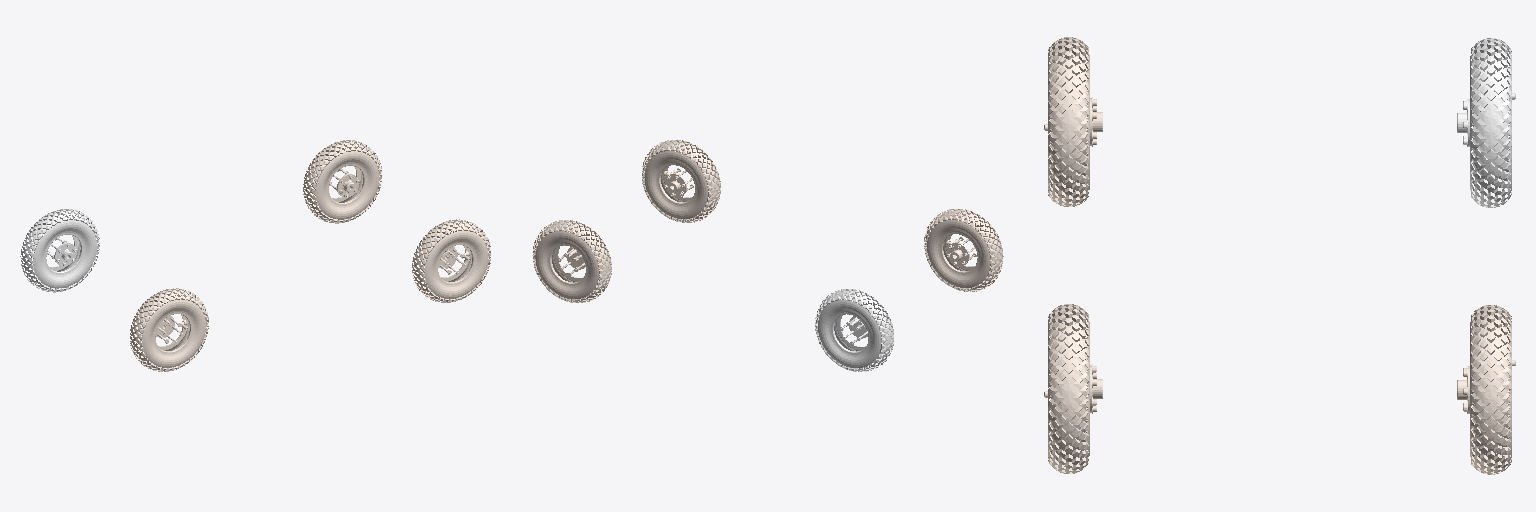
URDF robot description (ASIMOV_FINAL_v3):
<?xml version="1.0" encoding="utf-8"?>
<!-- This URDF was automatically created by SolidWorks to URDF Exporter! Originally created by [author] ([email redacted]) 
     Commit Version: 1.6.0-4-g7f85cfe  Build Version: 1.6.7995.38578
     For more information, please see http://wiki.ros.org/sw_urdf_exporter -->
<robot
  name="ASIMOV_FINAL_v3">
  <link
    name="base_link">
    <inertial>
      <origin
        xyz="-0.53586 -0.21063 0.13045"
        rpy="0 0 0" />
      <mass
        value="117.07" />
      <inertia
        ixx="1.3267"
        ixy="6.2294E-05"
        ixz="0.0025483"
        iyy="0.80971"
        iyz="-3.8013E-05"
        izz="1.2349" />
    </inertial>
    <visual>
      <origin
        xyz="0 0 0"
        rpy="0 0 0" />
      <geometry>
        <mesh
          filename="package://ASIMOV_FINAL_v3/meshes/base_link.STL" />
      </geometry>
      <material
        name="">
        <color
          rgba="0.86667 0.9098 1 1" />
      </material>
    </visual>
    <collision>
      <origin
        xyz="0 0 0"
        rpy="0 0 0" />
      <geometry>
        <mesh
          filename="package://ASIMOV_FINAL_v3/meshes/base_link.STL" />
      </geometry>
    </collision>
  </link>
  <link
    name="FL_wheel">
    <inertial>
      <origin
        xyz="-3.2274E-05 -0.024089 9.7242E-05"
        rpy="0 0 0" />
      <mass
        value="0.47815" />
      <inertia
        ixx="0.0011605"
        ixy="-1.2884E-08"
        ixz="-1.8991E-07"
        iyy="0.0021177"
        iyz="3.8596E-08"
        izz="0.001161" />
    </inertial>
    <visual>
      <origin
        xyz="0 0 0"
        rpy="0 0 0" />
      <geometry>
        <mesh
          filename="package://ASIMOV_FINAL_v3/meshes/FL_wheel.STL" />
      </geometry>
      <material
        name="">
        <color
          rgba="1 0.94902 0.9098 1" />
      </material>
    </visual>
    <collision>
      <origin
        xyz="0 0 0"
        rpy="0 0 0" />
      <geometry>
        <mesh
          filename="package://ASIMOV_FINAL_v3/meshes/FL_wheel.STL" />
      </geometry>
    </collision>
  </link>
  <joint
    name="fl-wheel"
    type="continuous">
    <origin
      xyz="-0.057013 0.063627 -0.131"
      rpy="0 0 0" />
    <parent
      link="base_link" />
    <child
      link="FL_wheel" />
    <axis
      xyz="0 1 0" />
    <limit
      effort="10"
      velocity="10" />
    <dynamics
      damping="0.1"
      friction="0.1" />
  </joint>
  <link
    name="FR_wheel">
    <inertial>
      <origin
        xyz="9.9662E-05 0.024089 2.3771E-05"
        rpy="0 0 0" />
      <mass
        value="0.47815" />
      <inertia
        ixx="0.0011611"
        ixy="-3.9581E-08"
        ixz="1.4332E-07"
        iyy="0.0021177"
        iyz="-9.3749E-09"
        izz="0.0011605" />
    </inertial>
    <visual>
      <origin
        xyz="0 0 0"
        rpy="0 0 0" />
      <geometry>
        <mesh
          filename="package://ASIMOV_FINAL_v3/meshes/FR_wheel.STL" />
      </geometry>
      <material
        name="">
        <color
          rgba="1 0.94902 0.9098 1" />
      </material>
    </visual>
    <collision>
      <origin
        xyz="0 0 0"
        rpy="0 0 0" />
      <geometry>
        <mesh
          filename="package://ASIMOV_FINAL_v3/meshes/FR_wheel.STL" />
      </geometry>
    </collision>
  </link>
  <joint
    name="fr-wheel"
    type="continuous">
    <origin
      xyz="-0.057013 -0.48363 -0.13"
      rpy="0 0 0" />
    <parent
      link="base_link" />
    <child
      link="FR_wheel" />
    <axis
      xyz="0 1 0" />
    <limit
      effort="10"
      velocity="10" />
    <dynamics
      damping="0.1"
      friction="0.1" />
  </joint>
  <link
    name="RR_wheel">
    <inertial>
      <origin
        xyz="9.9662E-05 0.024089 2.3771E-05"
        rpy="0 0 0" />
      <mass
        value="0.47815" />
      <inertia
        ixx="0.0011611"
        ixy="-3.9581E-08"
        ixz="1.4332E-07"
        iyy="0.0021177"
        iyz="-9.3749E-09"
        izz="0.0011605" />
    </inertial>
    <visual>
      <origin
        xyz="0 0 0"
        rpy="0 0 0" />
      <geometry>
        <mesh
          filename="package://ASIMOV_FINAL_v3/meshes/RR_wheel.STL" />
      </geometry>
      <material
        name="">
        <color
          rgba="1 0.94902 0.9098 1" />
      </material>
    </visual>
    <collision>
      <origin
        xyz="0 0 0"
        rpy="0 0 0" />
      <geometry>
        <mesh
          filename="package://ASIMOV_FINAL_v3/meshes/RR_wheel.STL" />
      </geometry>
    </collision>
  </link>
  <joint
    name="rr-wheel"
    type="continuous">
    <origin
      xyz="-0.80601 -0.48363 -0.13"
      rpy="0 0 0" />
    <parent
      link="base_link" />
    <child
      link="RR_wheel" />
    <axis
      xyz="0 1 0" />
    <limit
      effort="10"
      velocity="10" />
    <dynamics
      damping="0.1"
      friction="0.1" />
  </joint>
  <link
    name="RL_wheel">
    <inertial>
      <origin
        xyz="0 0 0"
        rpy="0 0 0" />
      <mass
        value="0" />
      <inertia
        ixx="0"
        ixy="0"
        ixz="0"
        iyy="0"
        iyz="0"
        izz="0" />
    </inertial>
    <visual>
      <origin
        xyz="0 0 0"
        rpy="0 0 0" />
      <geometry>
        <mesh
          filename="package://ASIMOV_FINAL_v3/meshes/RL_wheel.STL" />
      </geometry>
      <material
        name="">
        <color
          rgba="1 1 1 1" />
      </material>
    </visual>
    <collision>
      <origin
        xyz="0 0 0"
        rpy="0 0 0" />
      <geometry>
        <mesh
          filename="package://ASIMOV_FINAL_v3/meshes/RL_wheel.STL" />
      </geometry>
    </collision>
  </link>
  <joint
    name="rl-wheel"
    type="continuous">
    <origin
      xyz="-0.80601 0.063627 -0.131"
      rpy="0 0 0" />
    <parent
      link="base_link" />
    <child
      link="RL_wheel" />
    <axis
      xyz="0 1 0" />
    <limit
      effort="10"
      velocity="10" />
    <dynamics
      damping="0.1"
      friction="0.1" />
  </joint>
</robot>

--- Render facts (derived) ---
3 views of the same robot in one strip: view 1: azimuth 30°, elevation 25°; view 2: azimuth 150°, elevation 25°; view 3: azimuth 270°, elevation 25° (orthographic).
Robot: ASIMOV_FINAL_v3 — 5 links, 4 joints (4 continuous); root link base_link; default pose: every joint at zero.
Visible links, largest first — view 1: RR_wheel, FR_wheel, RL_wheel, FL_wheel; view 2: RR_wheel, FR_wheel, FL_wheel, RL_wheel; view 3: RR_wheel, FR_wheel, RL_wheel, FL_wheel.
Boxes of the visible links, x1,y1,x2,y2 form: RR_wheel: (130,288,208,371); FR_wheel: (412,219,490,302); RL_wheel: (20,209,99,292); FL_wheel: (303,140,381,223); RR_wheel: (924,209,1003,291); FR_wheel: (642,140,720,222); FL_wheel: (532,220,611,302); RL_wheel: (815,289,893,371); RR_wheel: (1044,37,1102,206); FR_wheel: (1044,304,1102,473); RL_wheel: (1457,38,1515,207); FL_wheel: (1457,305,1515,474).
Bounding box of the posed robot: 0.9512 × 0.5589 × 0.2031 m (x, y, z).
Meshes: 5 distinct files referenced, 4 mesh visuals loaded (4 binary STL); not drawn: 1 (reference not matched to a file when rendering).
